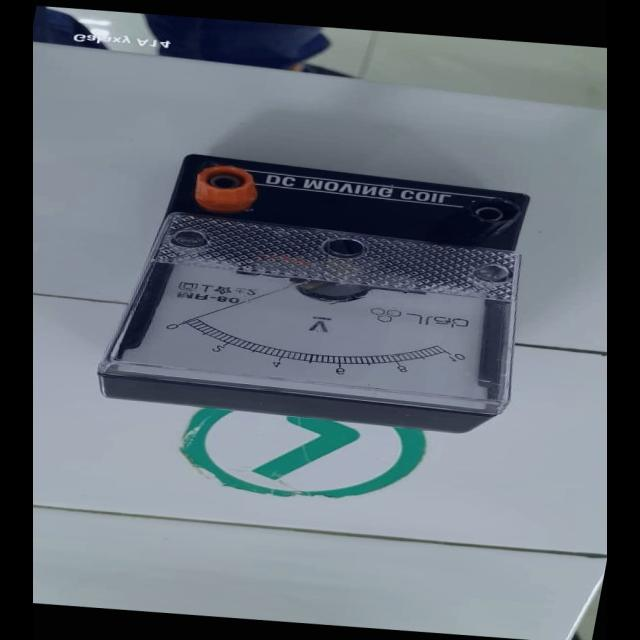Voltmeter: (68, 141, 555, 431)
